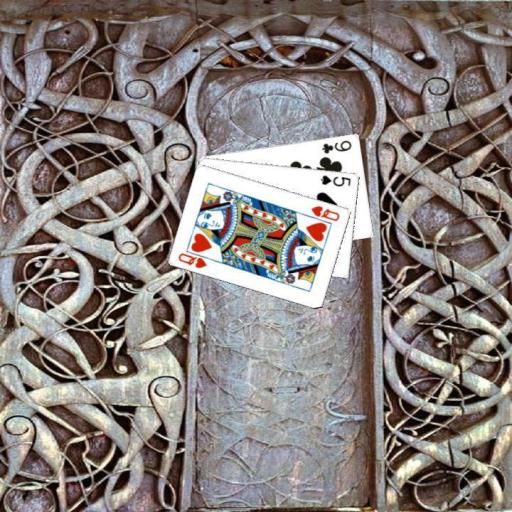card-corner: (175, 246, 214, 270), (308, 202, 341, 222), (318, 137, 354, 155), (318, 171, 353, 188)
